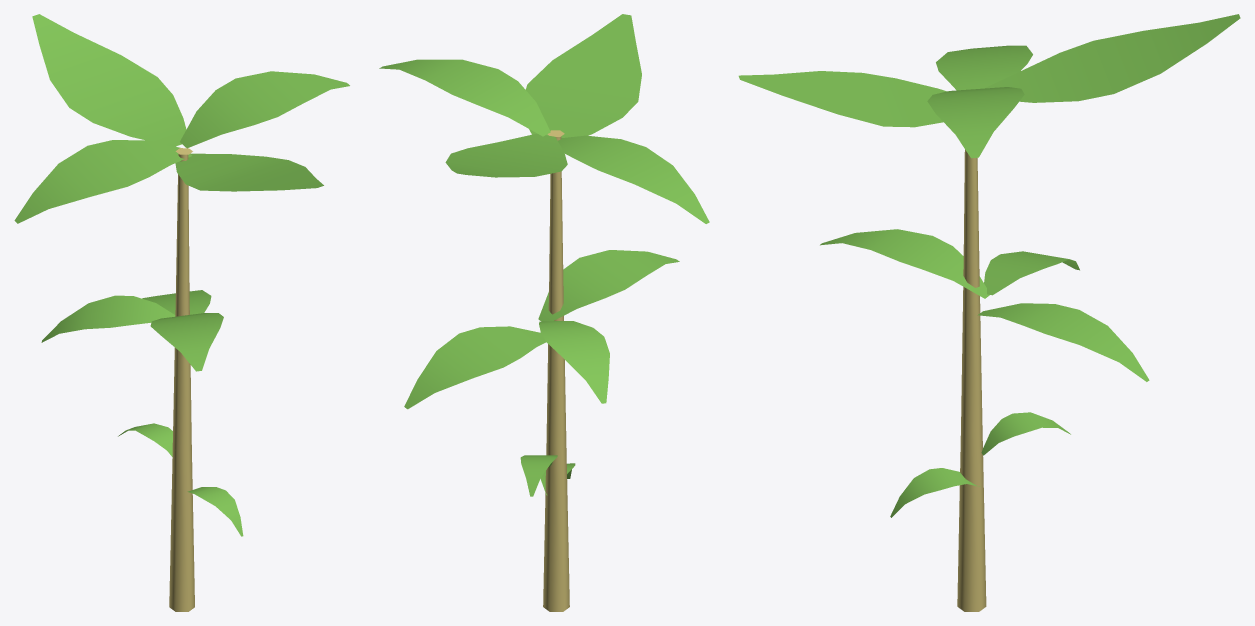
The model's file is model_brotocafe_01.fbx.
3 views of the same model, side by side, from view 1: azimuth 30°, elevation 25°; view 2: azimuth 150°, elevation 25°; view 3: azimuth 270°, elevation 25° (orthographic). The views are drawn at different scales.
Parts seen in each view (by area): view 1: NurbsPath.003; view 2: NurbsPath.003; view 3: NurbsPath.003.
Boxes of the visible parts, <box> form: NurbsPath.003: <box>14,14,349,611</box>; NurbsPath.003: <box>379,14,709,611</box>; NurbsPath.003: <box>738,14,1240,611</box>.
Bounding box in the file's own units: 0.1186 × 0.1787 × 0.1413.
